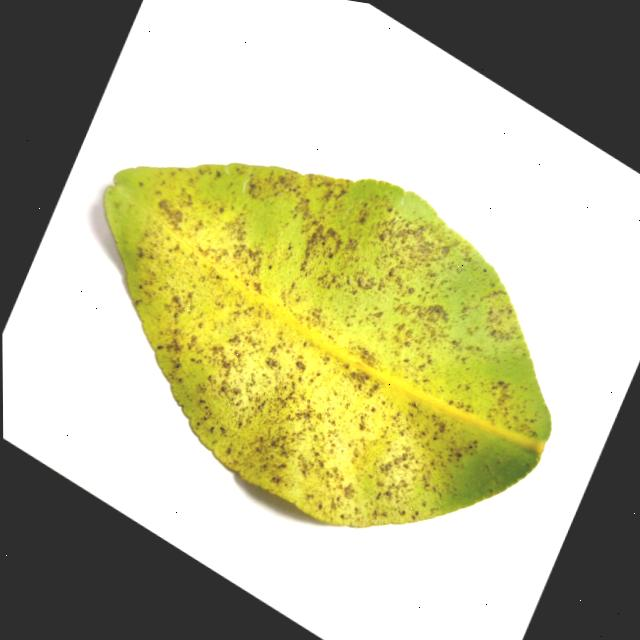melanose: (104, 164, 552, 527)
